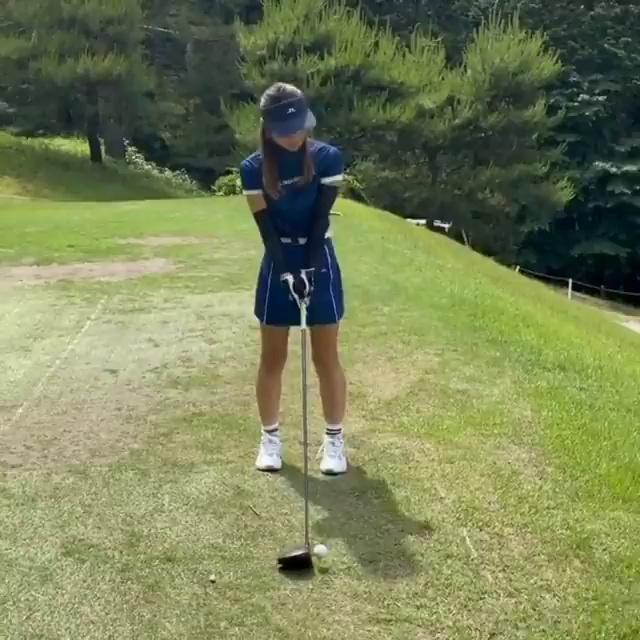ClubHead: (277, 549, 314, 572)
GolfBall: (314, 542, 327, 558)
